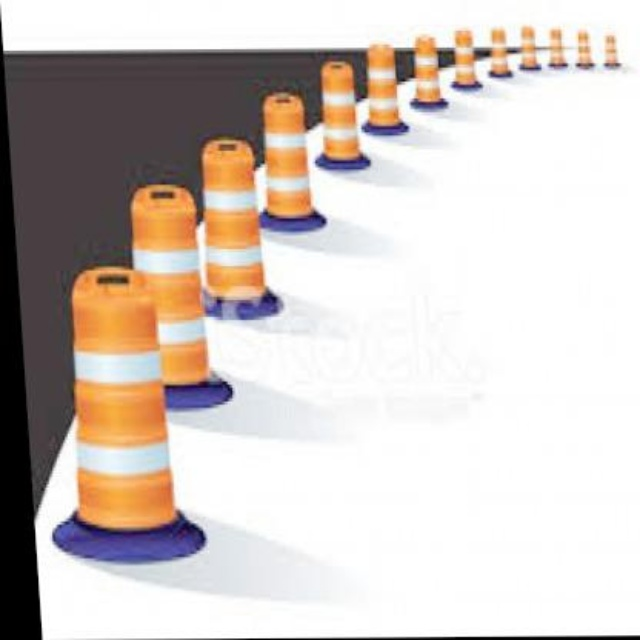obstacle: (61, 256, 174, 535), (194, 134, 266, 307), (256, 89, 311, 215), (317, 59, 359, 164), (362, 42, 395, 126)
